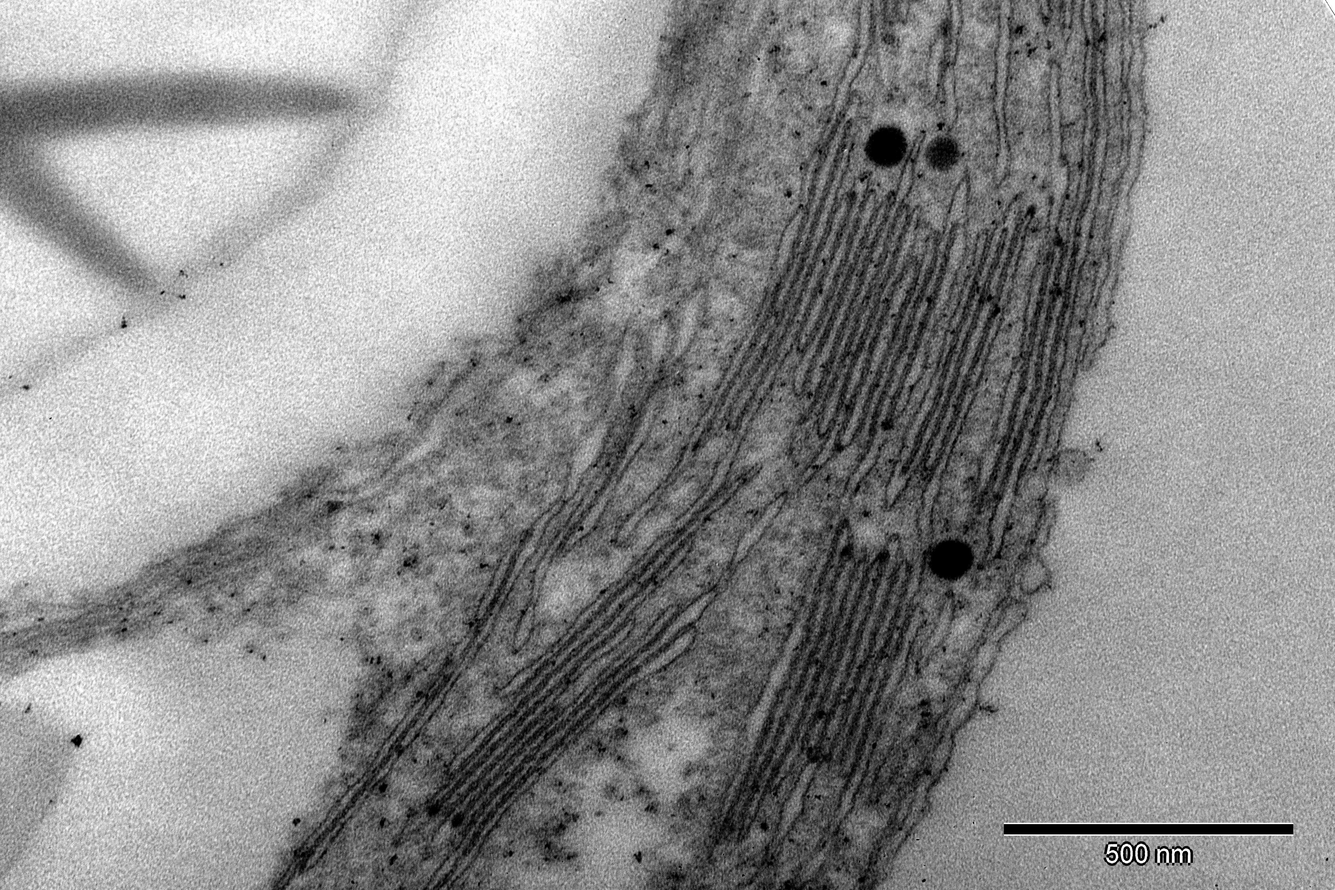granum: (697, 106, 971, 453), (388, 597, 702, 873), (698, 534, 948, 844), (486, 513, 703, 703), (889, 218, 1031, 487), (970, 226, 1095, 505)
